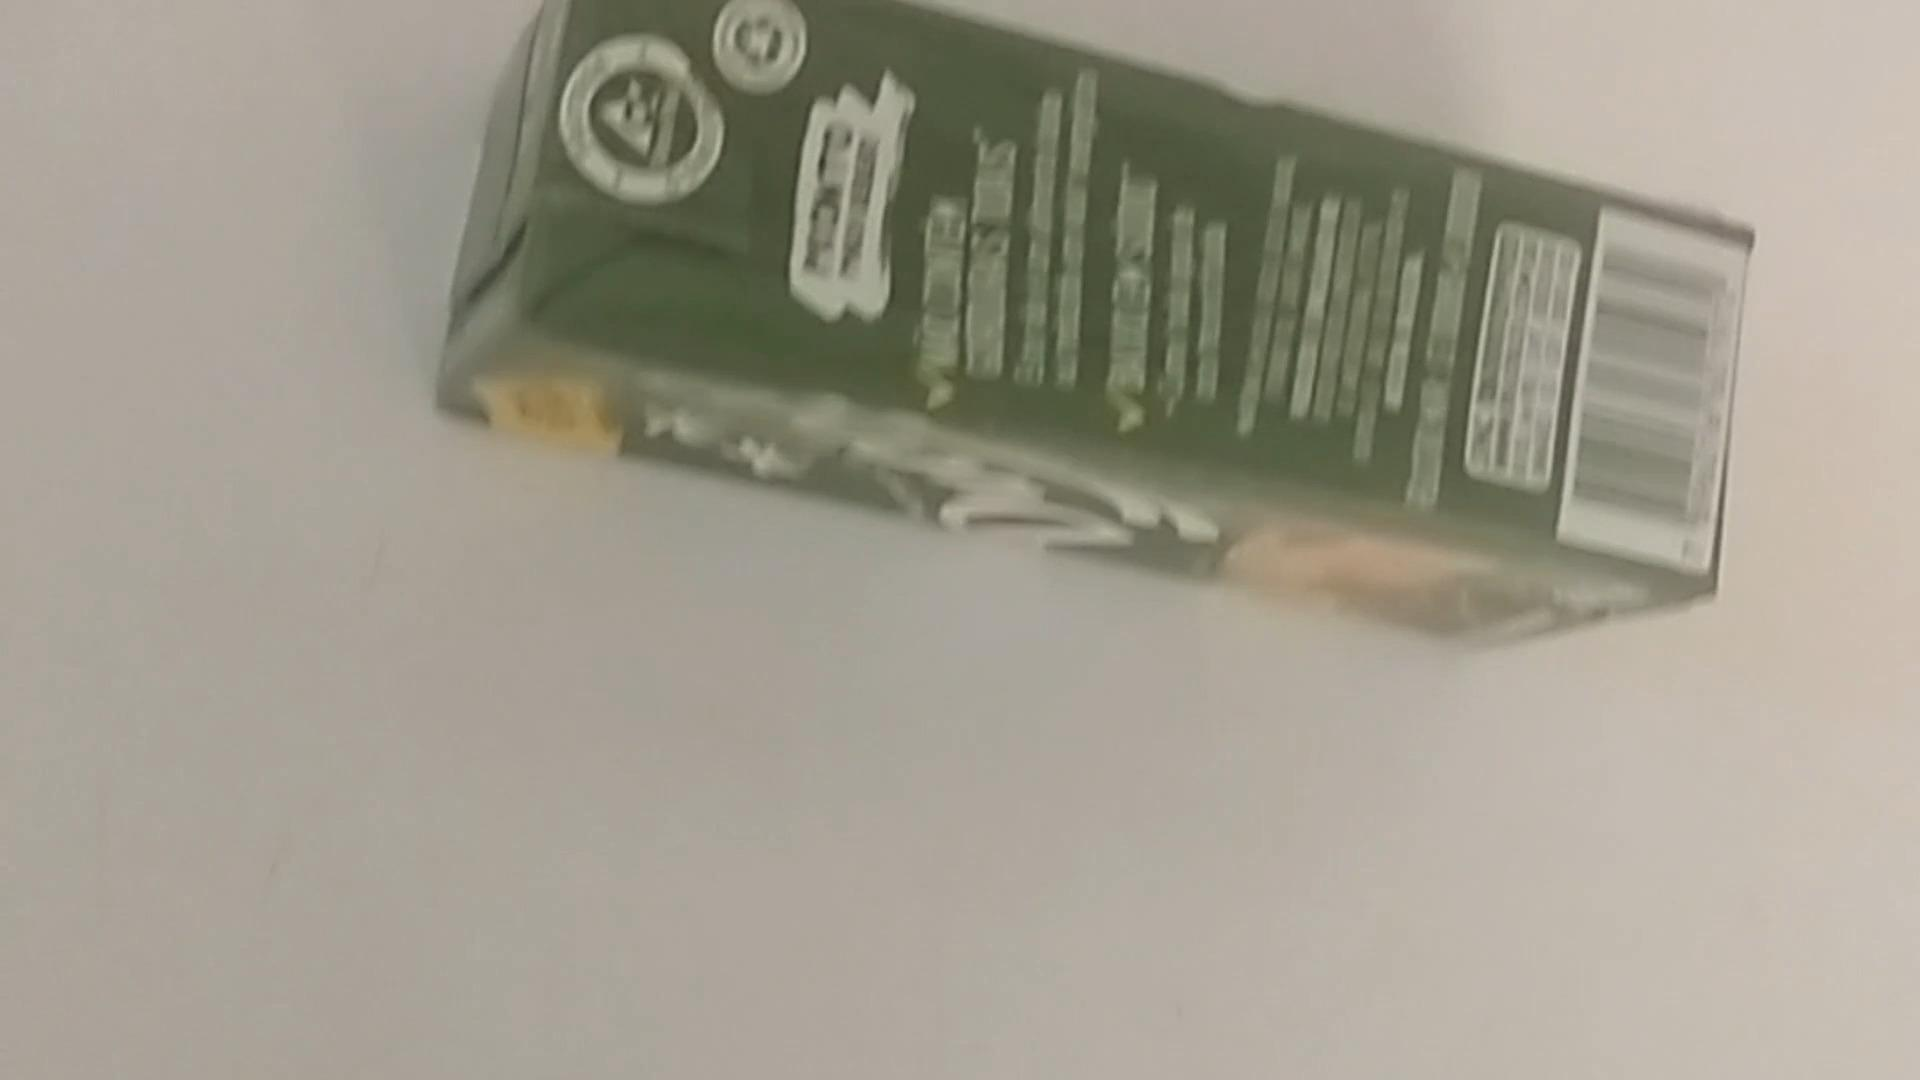coco: (430, 0, 1763, 661)
